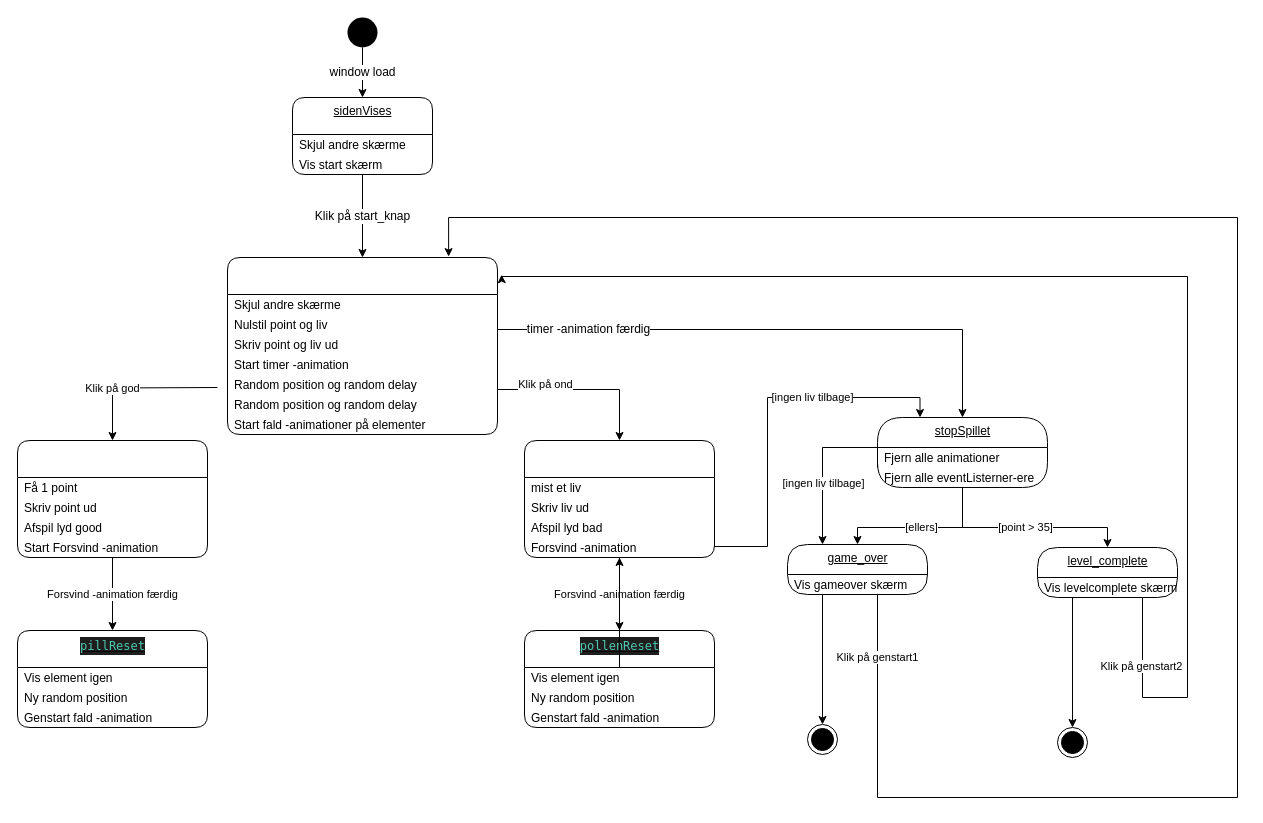
The diagram is 1263 pixels wide and 823 high, and some of its shapes have lost their labels. The box of each missing label's shape, as (x1, y1, x2, y2) in pixels:
clickPillHandler: (16, 440, 208, 558)
clickPollenHandler: (524, 440, 714, 558)
startSpillet: (226, 256, 498, 434)
